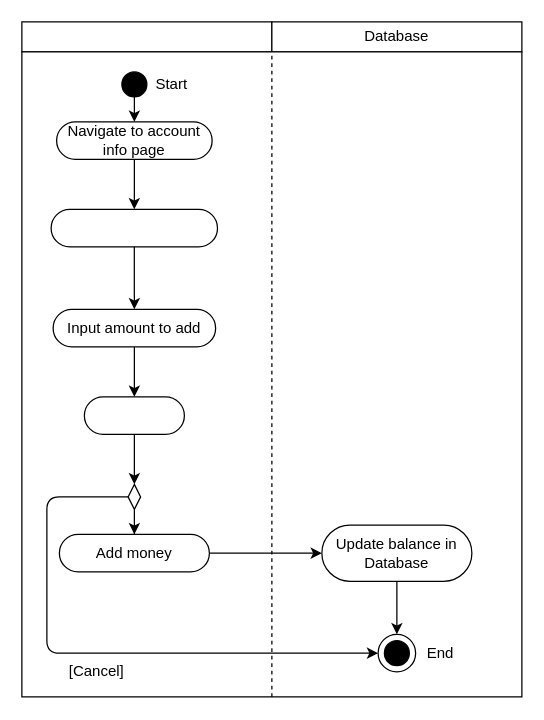
Some shapes in this 544 by 720 pixel diagram are drawn without their labels. Each missing label, with the centre of its shape:
"Confirm" goes at point (133, 415).
"Customer" goes at point (146, 36).
"Select 'Add Money'" goes at point (134, 227).
